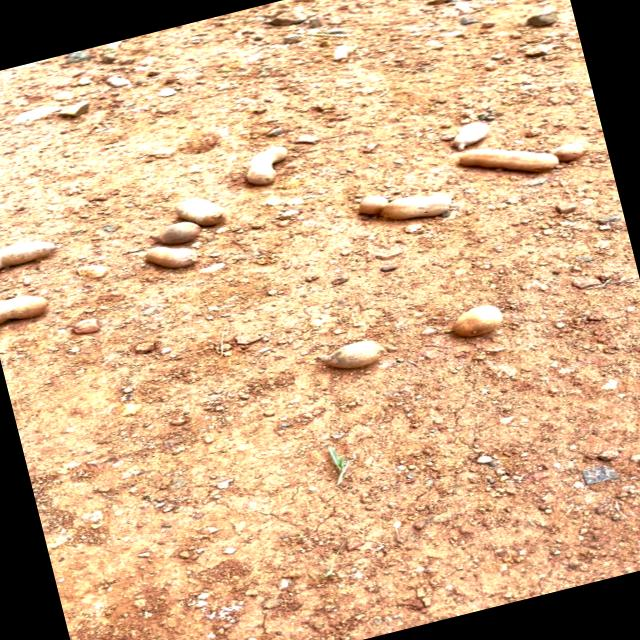tamarind: (450, 116, 595, 194), (350, 174, 460, 236), (308, 334, 392, 380), (168, 184, 233, 236), (0, 228, 64, 280), (238, 140, 298, 193), (140, 235, 208, 278), (450, 300, 510, 342), (143, 216, 209, 253), (0, 286, 54, 326), (451, 116, 494, 150)
